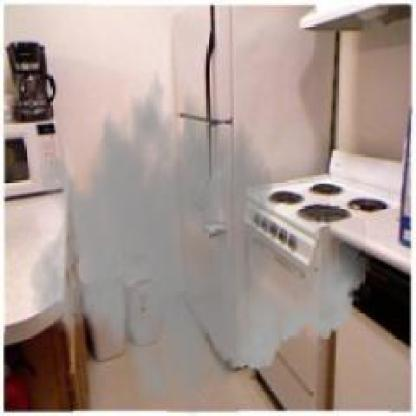Smoke: (27, 54, 373, 414)
